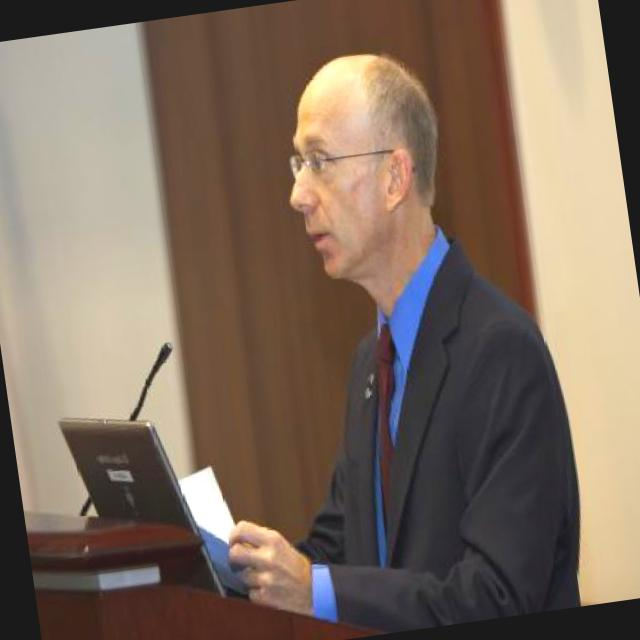Person: (176, 17, 597, 640)
